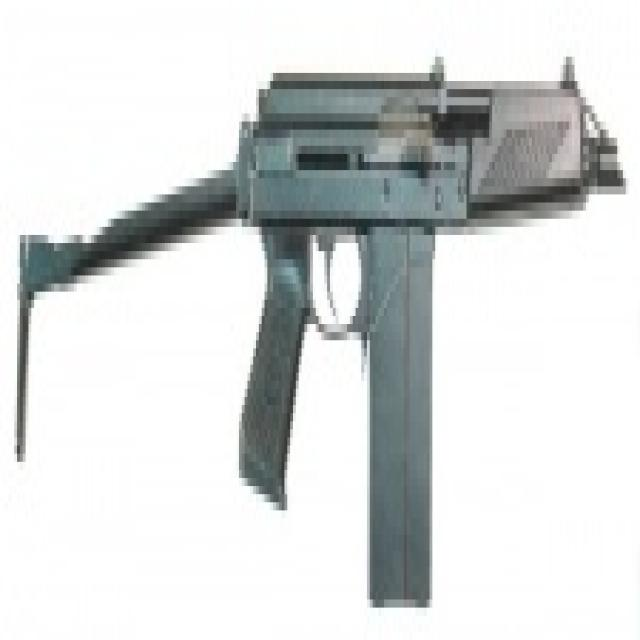rifle: (5, 23, 632, 634)
